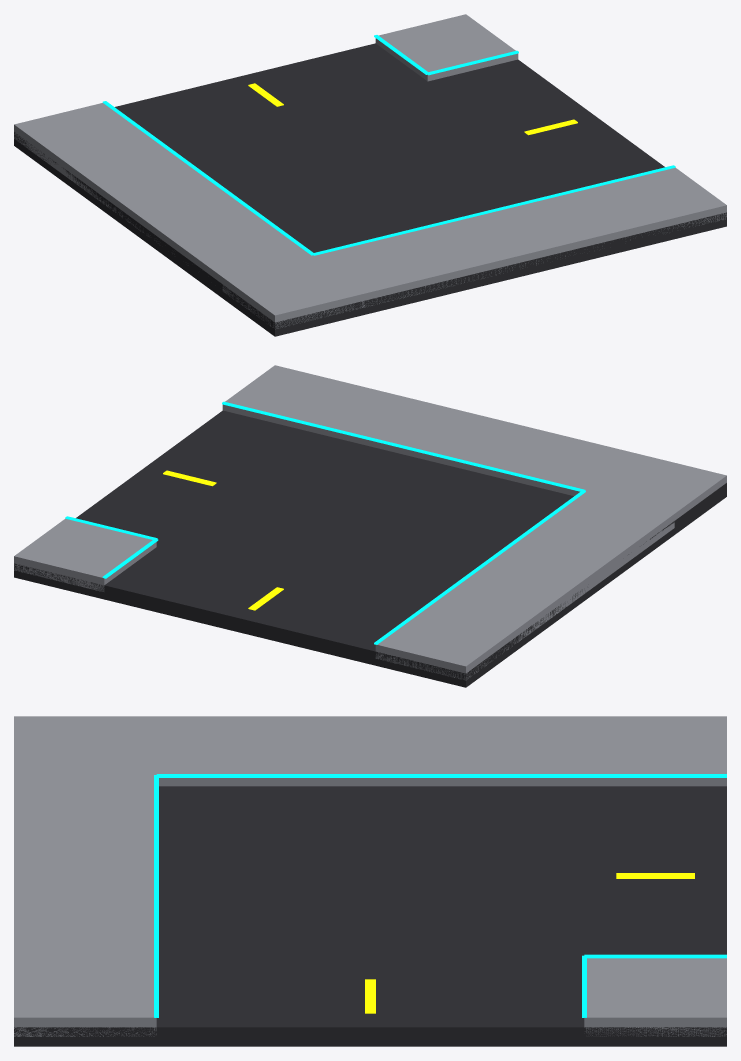
Rendered from Tile_RoadCorner.fbx.
3 renders of one model, top to bottom at view 1: azimuth 30°, elevation 25°; view 2: azimuth 150°, elevation 25°; view 3: azimuth 270°, elevation 25°, orthographic. The views are drawn at different scales.
Visible parts, largest first — view 1: Tile_RoadCorner_Base, Tile_RoadCorner_Walk0-1, Tile_RoadCorner_Walk-10, Tile_RoadCorner_Walk-1-1, Tile_RoadCorner_Walk1-1, Tile_RoadCorner_Walk-11, Tile_RoadCorner_Walk11, Tile_RoadCorner_Curb0-101, Tile_RoadCorner_Curb-1010; view 2: Tile_RoadCorner_Base, Tile_RoadCorner_Walk-10, Tile_RoadCorner_Walk0-1, Tile_RoadCorner_Walk-11, Tile_RoadCorner_Walk11, Tile_RoadCorner_Walk1-1, Tile_RoadCorner_Walk-1-1, Tile_RoadCorner_Curb0-101, Tile_RoadCorner_Curb-1010; view 3: Tile_RoadCorner_Base, Tile_RoadCorner_Walk-10, Tile_RoadCorner_Walk0-1, Tile_RoadCorner_Walk11, Tile_RoadCorner_Walk1-1, Tile_RoadCorner_Walk-11, Tile_RoadCorner_Walk-1-1, Tile_RoadCorner_Curb-1010, Tile_RoadCorner_Curb0-101, Tile_RoadCorner_Curb11-10, Tile_RoadCorner_Curb-1110.
Part boxes in pixels (bbox=[...]): Tile_RoadCorner_Base: bbox=[14, 43, 726, 336]; Tile_RoadCorner_Walk0-1: bbox=[314, 190, 636, 306]; Tile_RoadCorner_Walk-10: bbox=[66, 141, 310, 283]; Tile_RoadCorner_Walk-1-1: bbox=[222, 255, 365, 329]; Tile_RoadCorner_Walk1-1: bbox=[585, 167, 726, 234]; Tile_RoadCorner_Walk-11: bbox=[14, 103, 154, 176]; Tile_RoadCorner_Walk11: bbox=[375, 14, 518, 81]; Tile_RoadCorner_Curb0-101: bbox=[313, 187, 585, 255]; Tile_RoadCorner_Curb-1010: bbox=[155, 139, 313, 255]; Tile_RoadCorner_Base: bbox=[14, 410, 726, 687]; Tile_RoadCorner_Walk-10: bbox=[430, 492, 674, 641]; Tile_RoadCorner_Walk0-1: bbox=[313, 387, 635, 495]; Tile_RoadCorner_Walk-11: bbox=[375, 606, 518, 680]; Tile_RoadCorner_Walk11: bbox=[14, 518, 156, 591]; Tile_RoadCorner_Walk1-1: bbox=[222, 365, 364, 432]; Tile_RoadCorner_Walk-1-1: bbox=[586, 453, 726, 520]; Tile_RoadCorner_Curb0-101: bbox=[312, 423, 585, 491]; Tile_RoadCorner_Curb-1010: bbox=[426, 490, 585, 606]; Tile_RoadCorner_Base: bbox=[14, 786, 726, 1046]; Tile_RoadCorner_Walk-10: bbox=[156, 716, 584, 786]; Tile_RoadCorner_Walk0-1: bbox=[14, 776, 153, 957]; Tile_RoadCorner_Walk11: bbox=[584, 958, 726, 1036]; Tile_RoadCorner_Walk1-1: bbox=[14, 957, 156, 1036]; Tile_RoadCorner_Walk-11: bbox=[584, 716, 726, 786]; Tile_RoadCorner_Walk-1-1: bbox=[14, 716, 156, 776]; Tile_RoadCorner_Curb-1010: bbox=[156, 774, 584, 777]; Tile_RoadCorner_Curb0-101: bbox=[154, 775, 158, 955]; Tile_RoadCorner_Curb11-10: bbox=[584, 954, 726, 958]; Tile_RoadCorner_Curb-1110: bbox=[584, 774, 726, 777].
Bounding box in the file's own units: 2 × 0.095 × 2.
